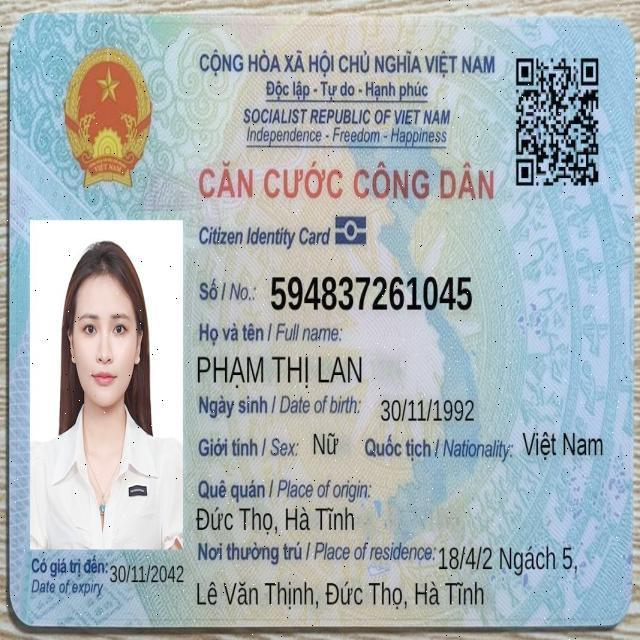current_place: (195, 577, 486, 613), (437, 543, 579, 578)
dob: (378, 396, 477, 425)
expire_date: (109, 563, 185, 585)
gender: (311, 428, 340, 458)
id: (268, 271, 475, 316)
name: (196, 352, 364, 391)
nationality: (521, 428, 604, 462)
origin_place: (193, 502, 357, 537)
qr: (512, 52, 604, 192)
